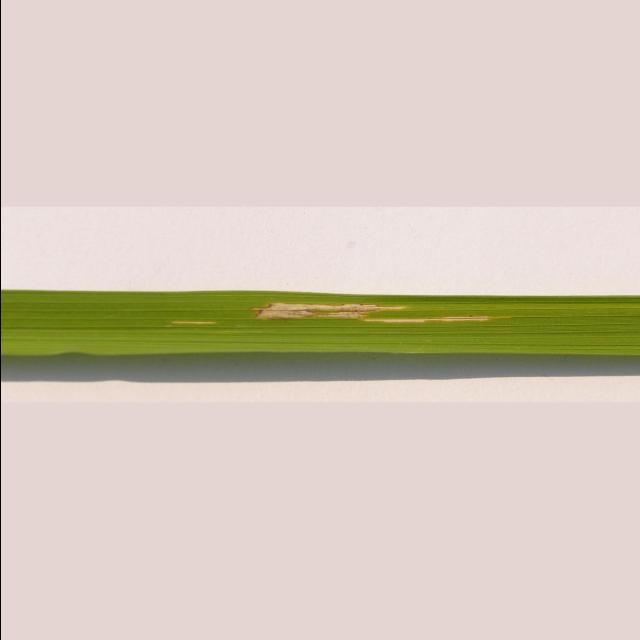Bacterial leaf blight: (0, 207, 640, 390)
